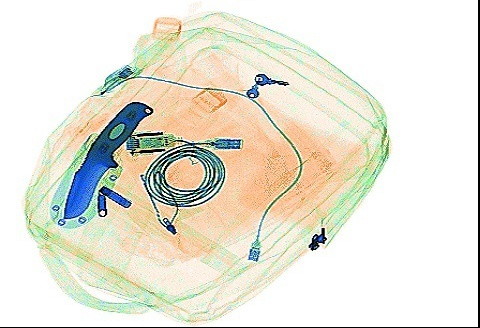knife: (47, 97, 154, 229)
